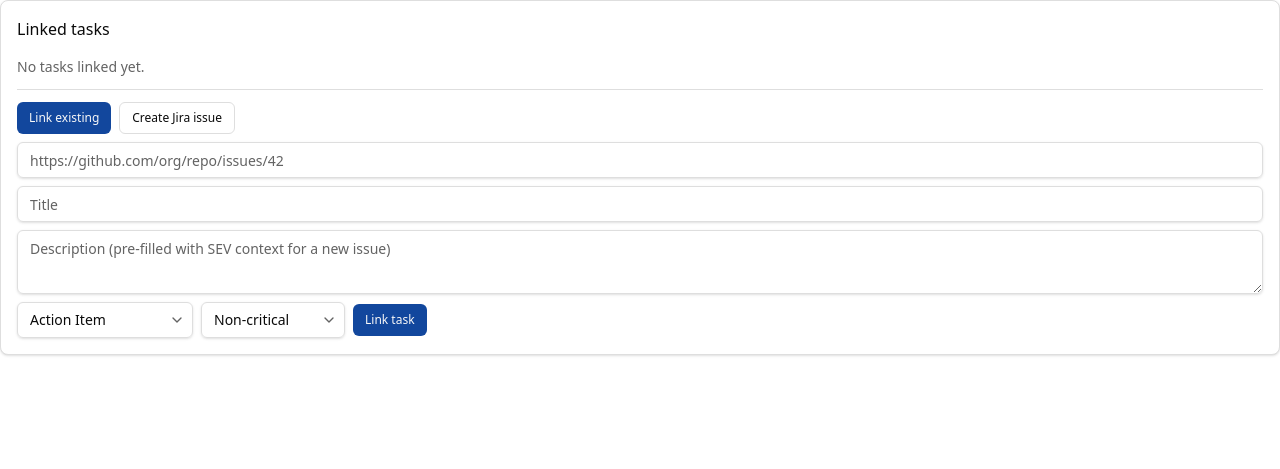
Test: TasksPanel › shows the server error message on a failed Jira create
expect the text "No tasks linked yet." is shown: met, box [17,57,144,76]
Click the button "Create Jira issue". click: click(177, 118)
box: [119,102,235,134]
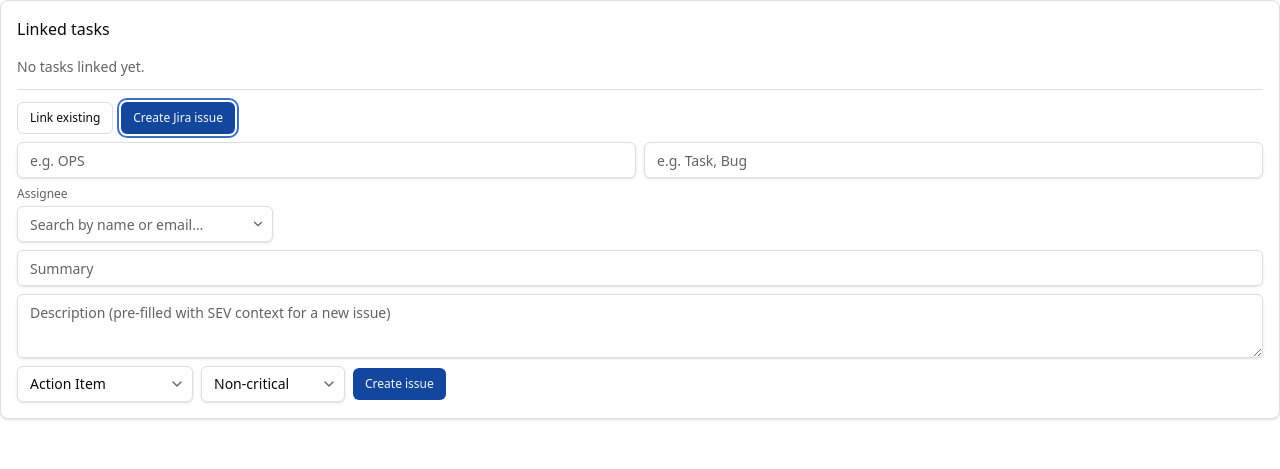
Type "OPS" into the field named "Project key". click: (326, 160)
box: [17,142,636,178]
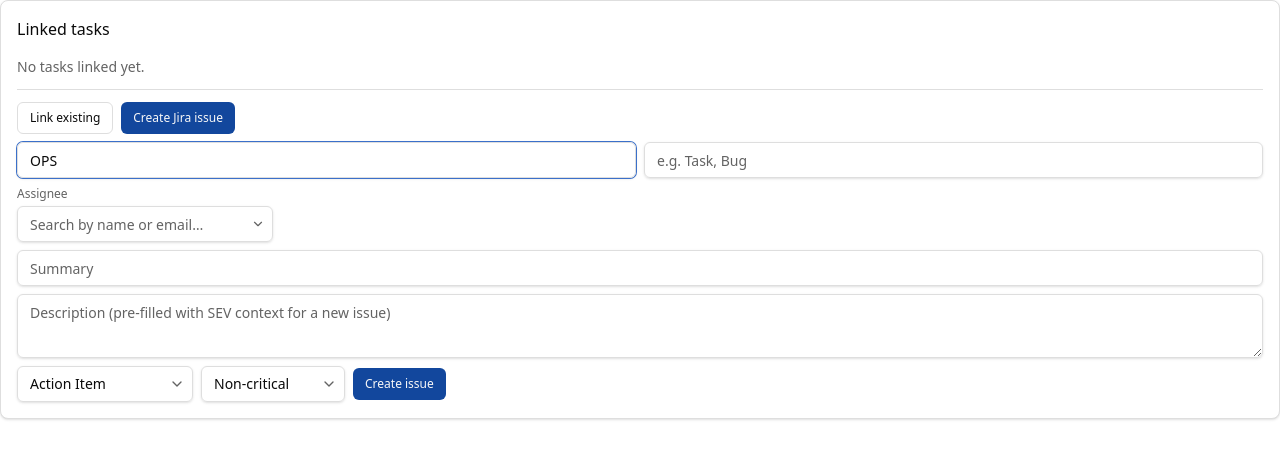
Type "Bug" into the field named "Issue type". click: (954, 160)
box: [644,142,1263,178]
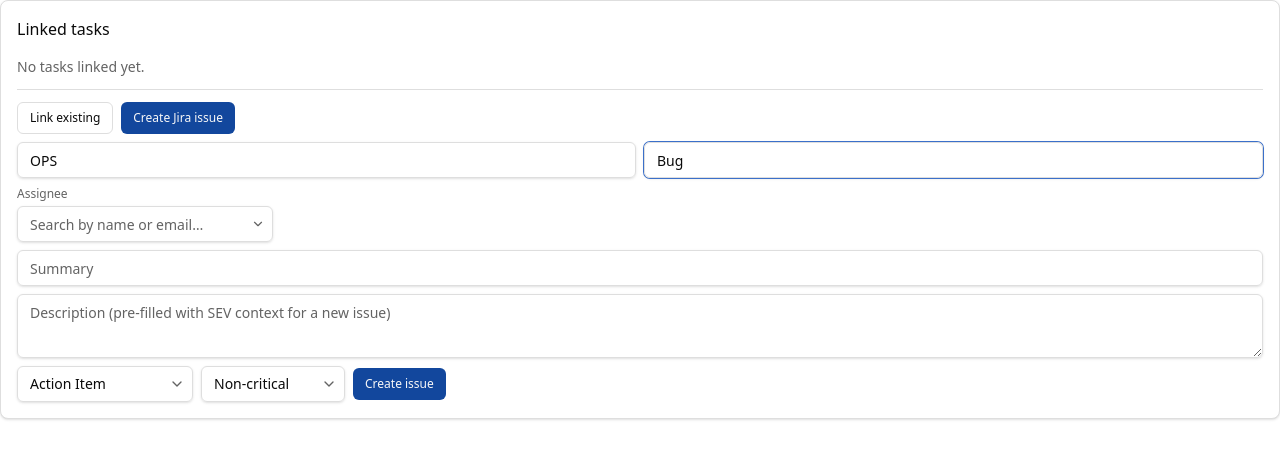
Type "Checkout errors" into the field labelled "Summary". click: (640, 268)
box: [17,250,1263,286]
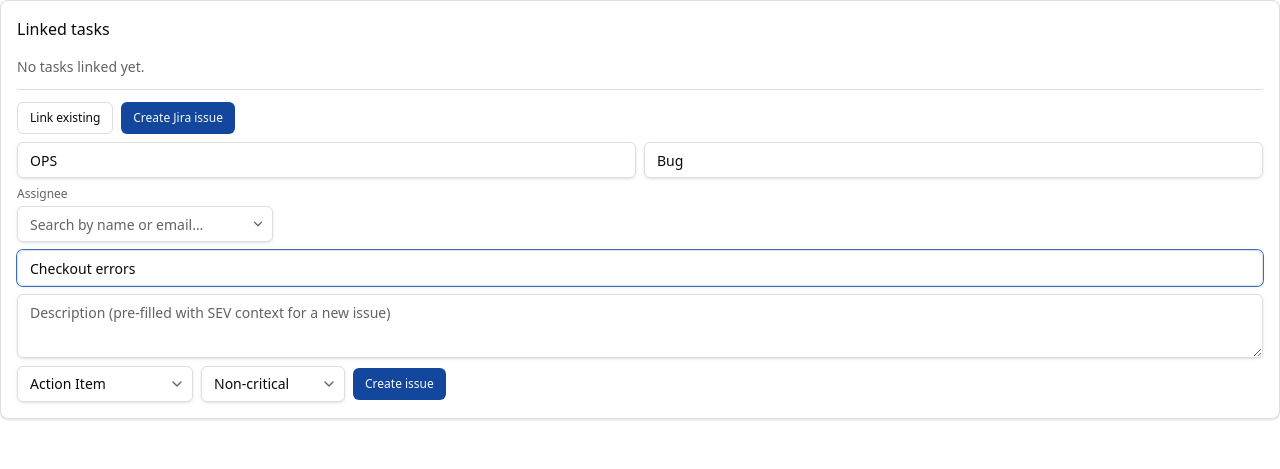
Click the button "Create issue". click: click(399, 384)
box: [353,368,446,400]
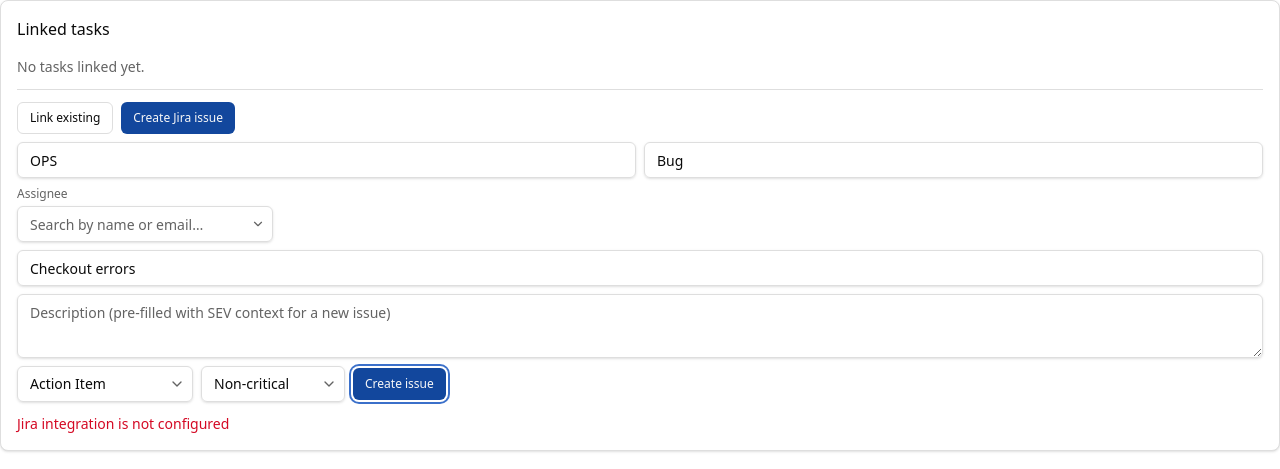
expect the text "Jira integration is not configured" is shown: met, box [17,414,229,433]
